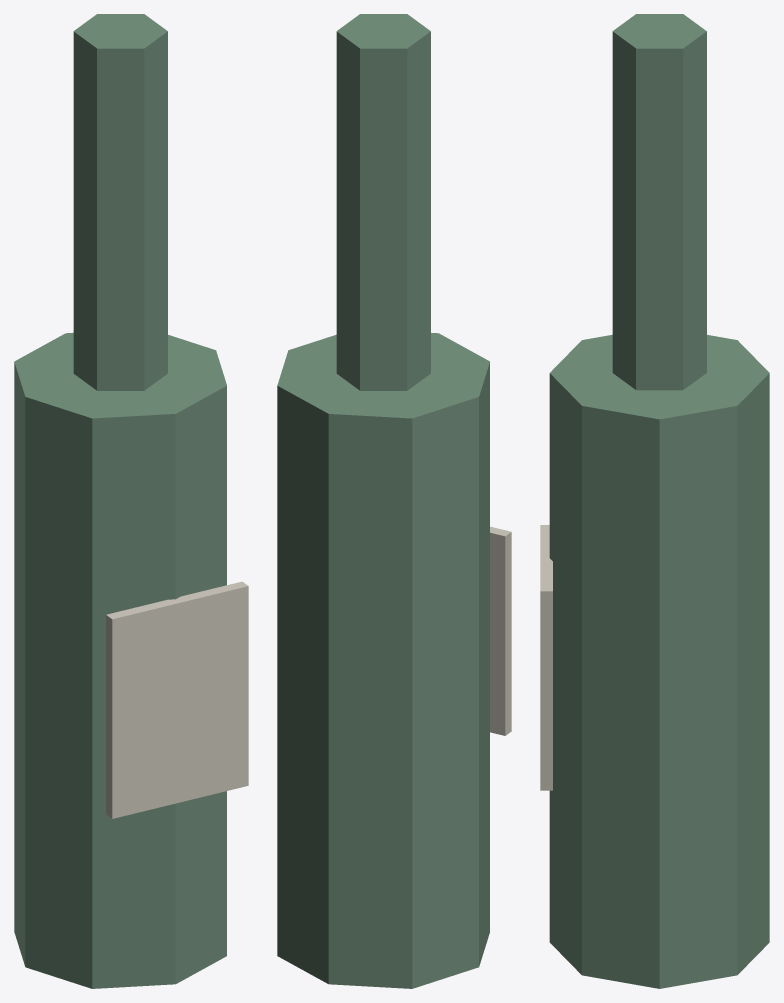
The model's file is Esya_Sarap.glb.
3 views of the same model, side by side, from view 1: azimuth 30°, elevation 25°; view 2: azimuth 150°, elevation 25°; view 3: azimuth 270°, elevation 25° (orthographic).
Visible parts, largest first — view 1: Esya_Sarap; view 2: Esya_Sarap; view 3: Esya_Sarap.
Part boxes in pixels (left/top/right/bottom): Esya_Sarap: left=14, top=14, right=248, bottom=988; Esya_Sarap: left=277, top=14, right=511, bottom=988; Esya_Sarap: left=540, top=14, right=769, bottom=988.
Size of the model in its own units: 0.07 by 0.32 by 0.073.
